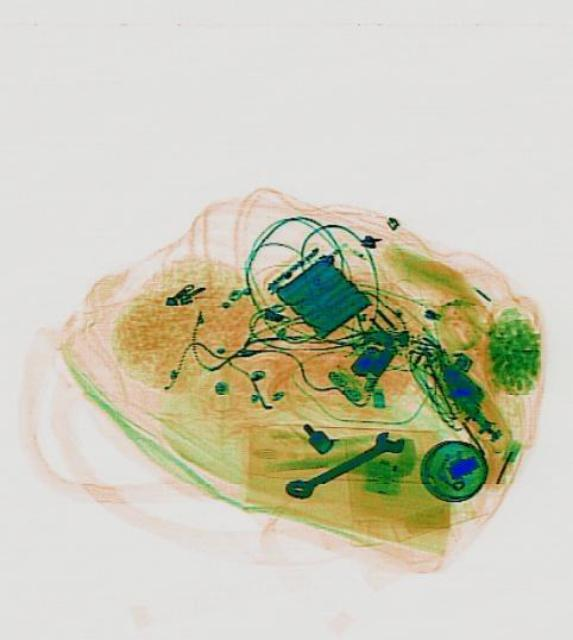Wrench: (281, 421, 408, 507)
